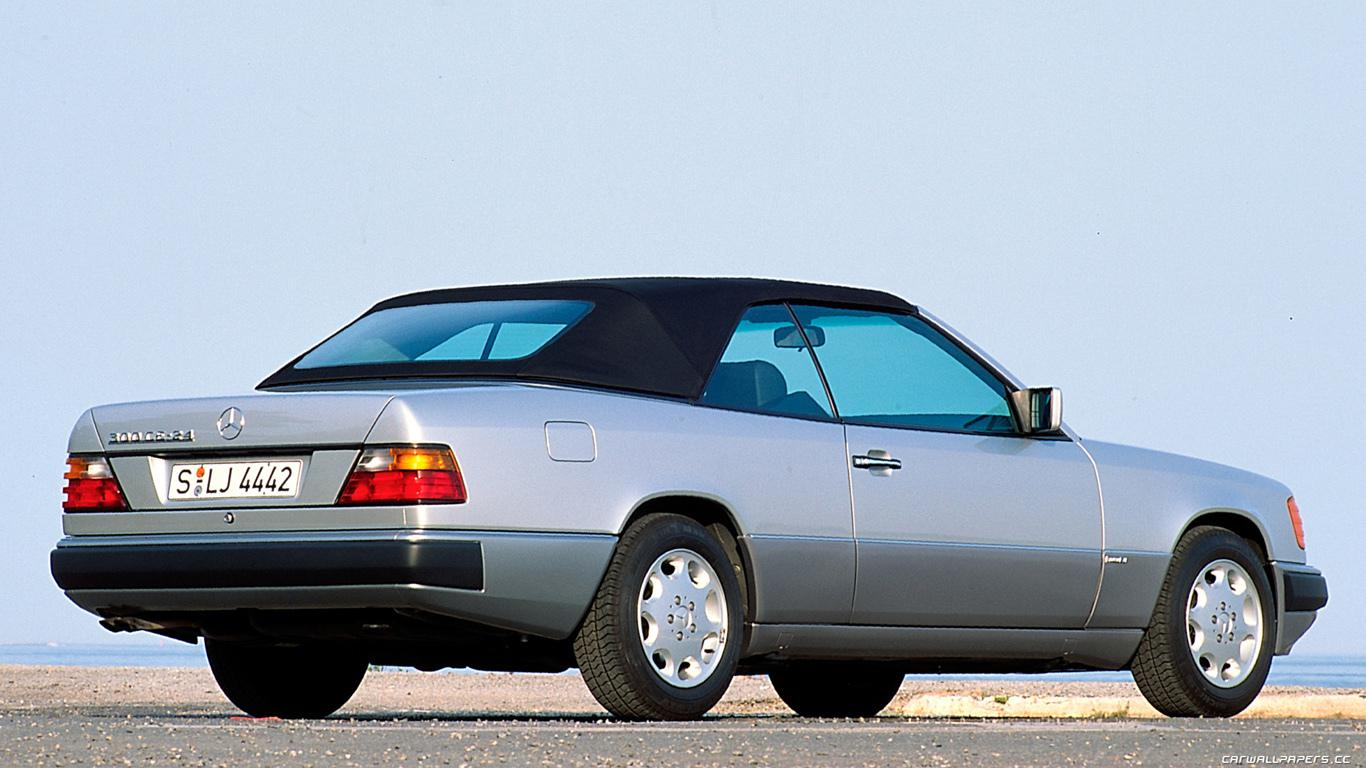Car: (1, 231, 1339, 729)
